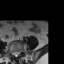CCS_normal: (15, 49, 17, 59)
LFS_stenosis: (19, 48, 21, 54)
LLS_normal: (17, 49, 19, 57)
RFS_normal: (11, 49, 13, 57)
RLS_normal: (13, 49, 15, 57)
